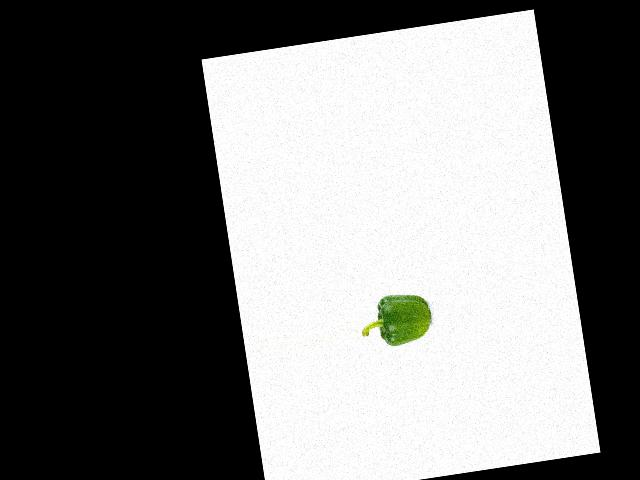bell_pepper: (357, 281, 434, 351)
